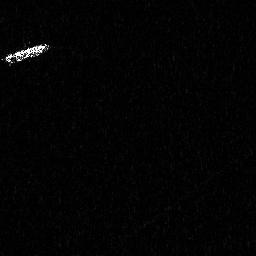ship: (2, 40, 52, 66)
